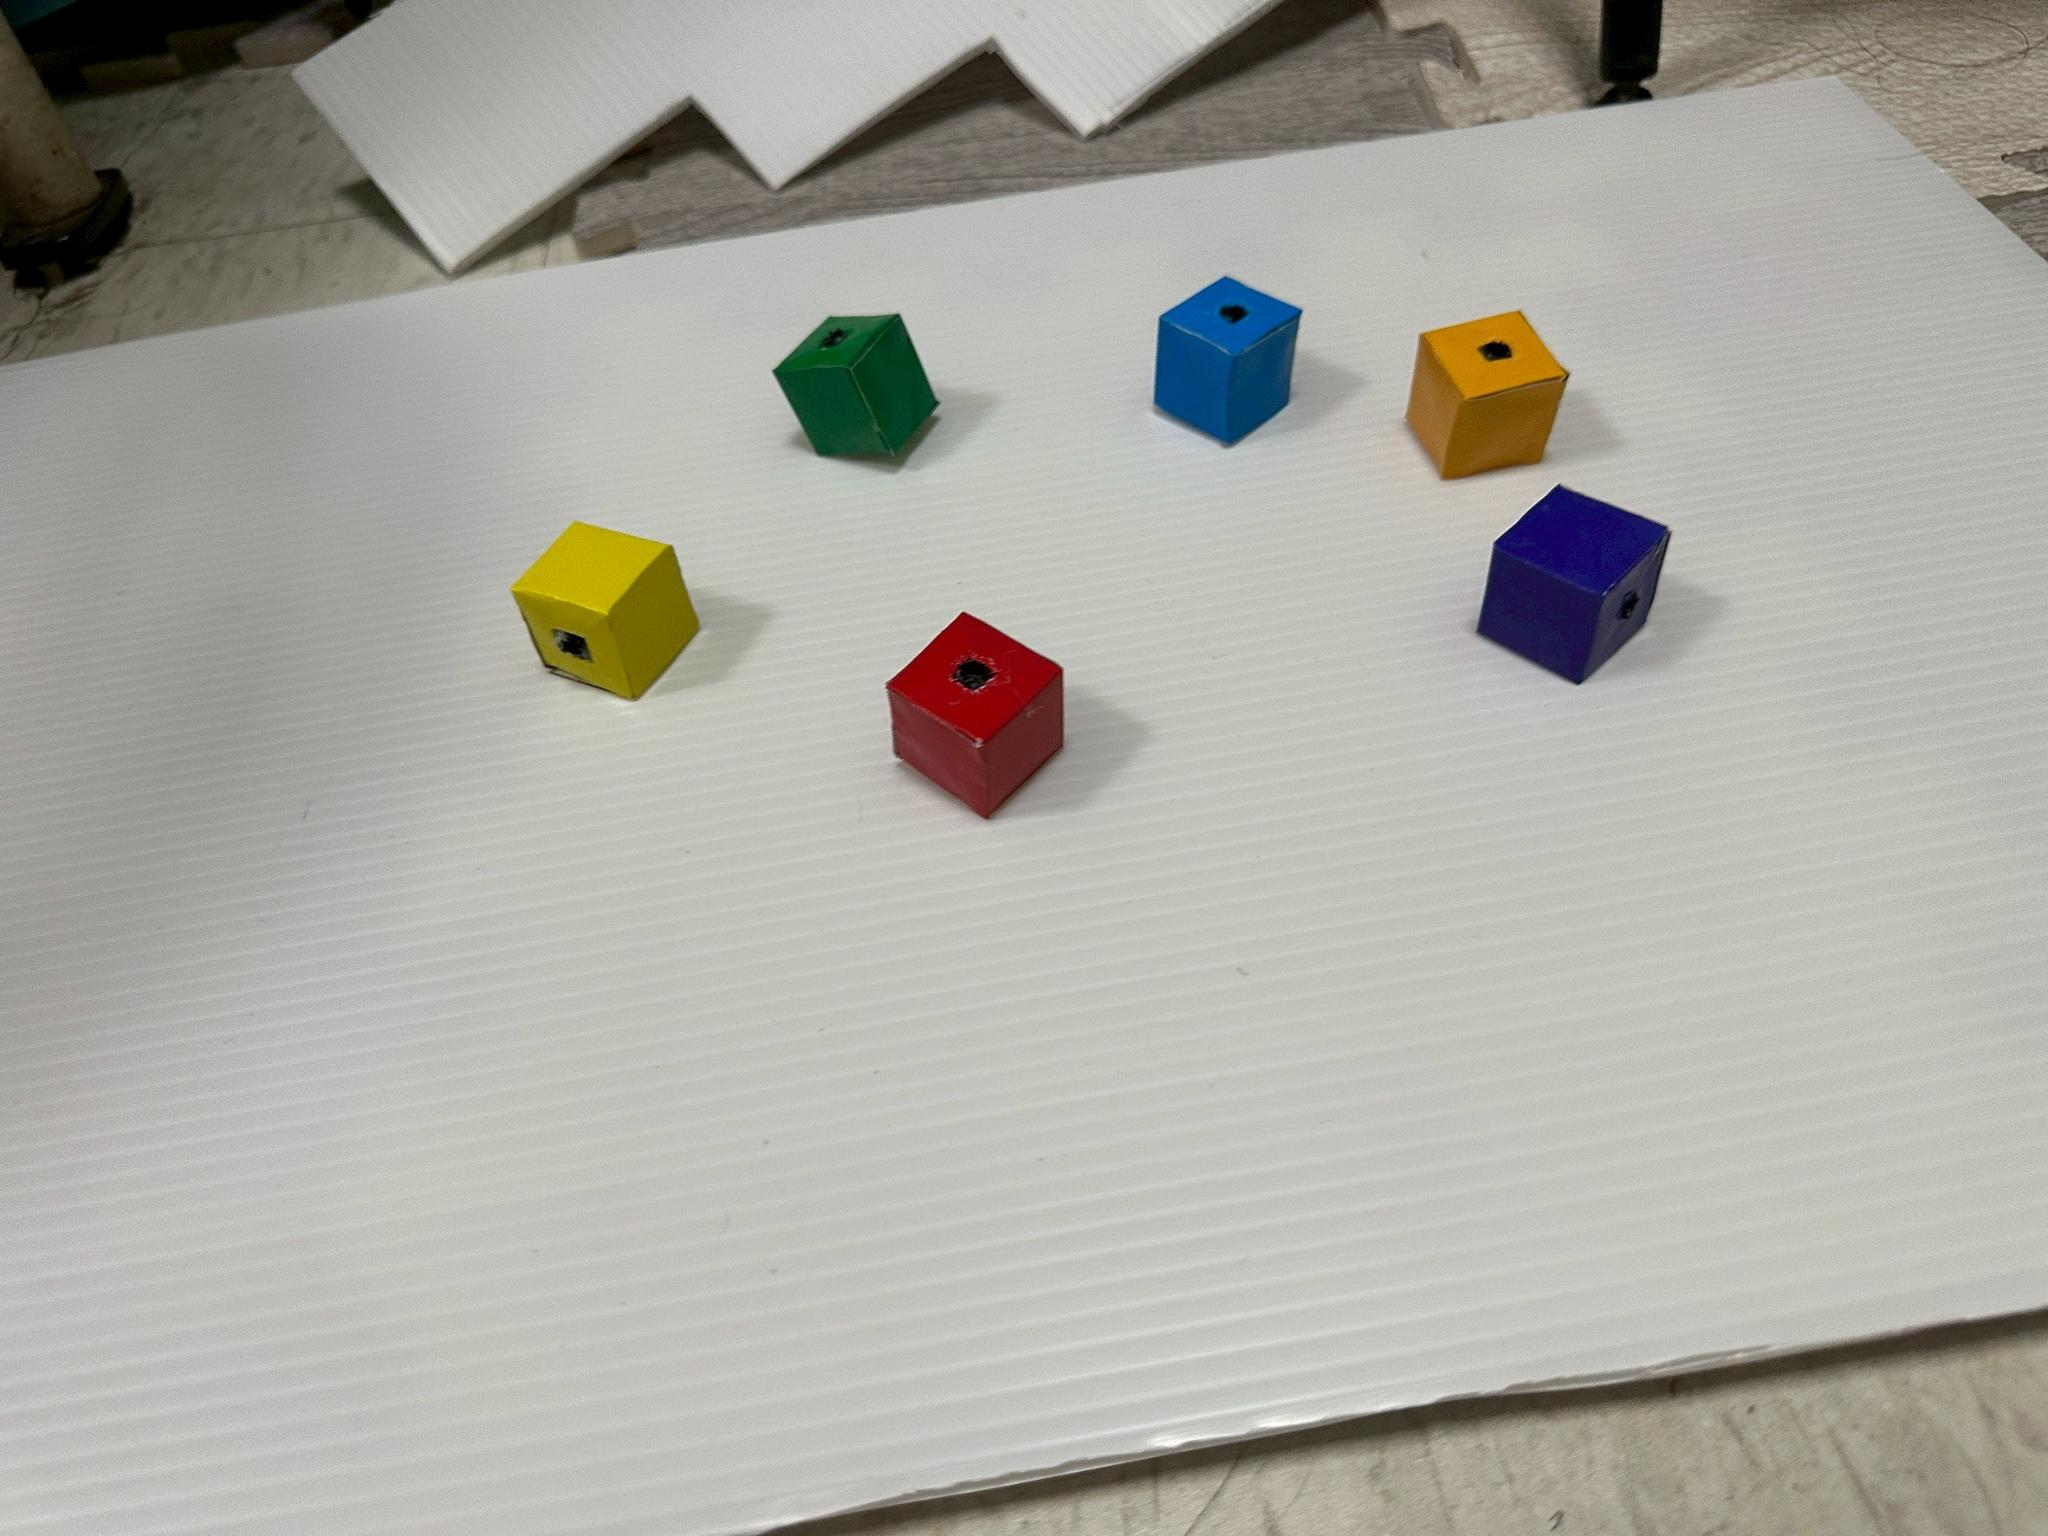cube: (1479, 487, 1669, 682), (887, 613, 1061, 818), (511, 523, 697, 699), (1406, 311, 1566, 478), (1155, 276, 1300, 442), (774, 315, 939, 455)
